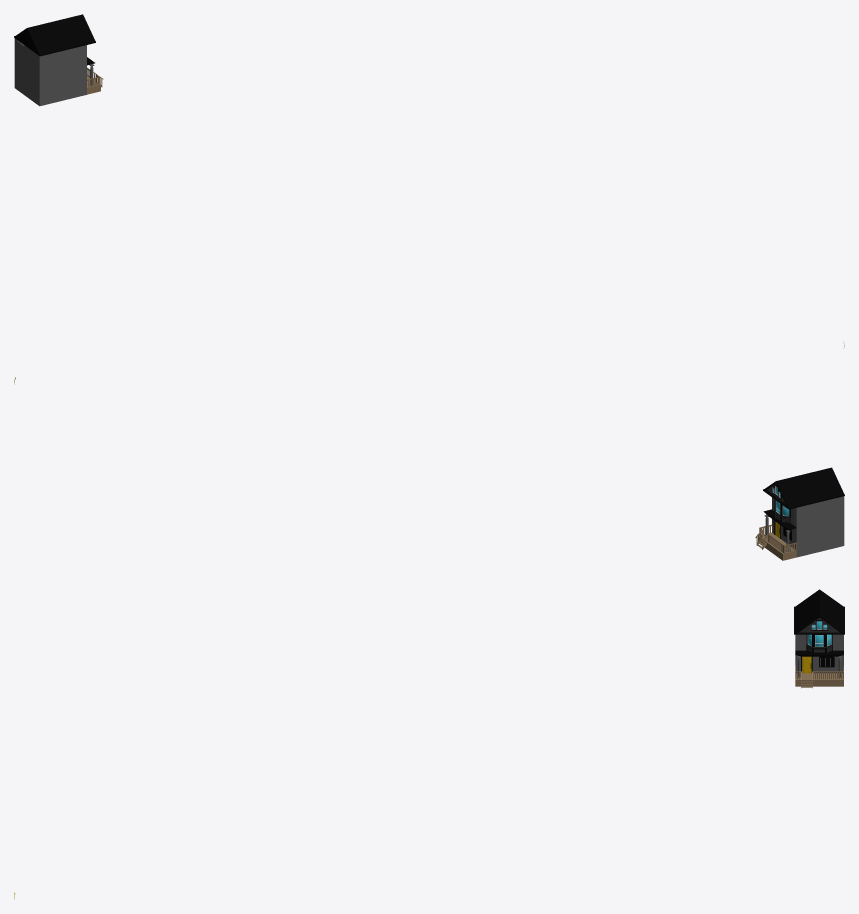
Rendered from house-capstone2.fbx.
The picture shows the model from 3 angles, top to bottom: view 1: azimuth 30°, elevation 25°; view 2: azimuth 210°, elevation 25°; view 3: azimuth 270°, elevation 25°; orthographic projection. The views are drawn at different scales.
Visible parts, largest first — view 1: Cube, Cube.002; view 2: Cube, Cube.002, Cube.001, Cube.024; view 3: Cube.002, Cube.
Part boxes in pixels (x1,y1,x2,y2): Cube: (14,38,86,106); Cube.002: (14,14,95,56); Cube: (772,496,844,557); Cube.002: (763,467,844,509); Cube.001: (758,532,796,560); Cube.024: (755,524,796,553); Cube.002: (794,589,844,634); Cube: (795,634,843,673).
Bounding box in the file's own units: 4925 × 1374 × 8889.
